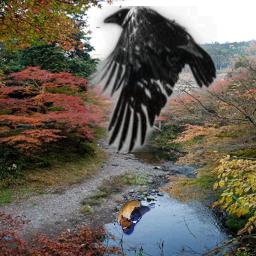Crow: (87, 6, 217, 152)
Swallow: (115, 193, 155, 236)
